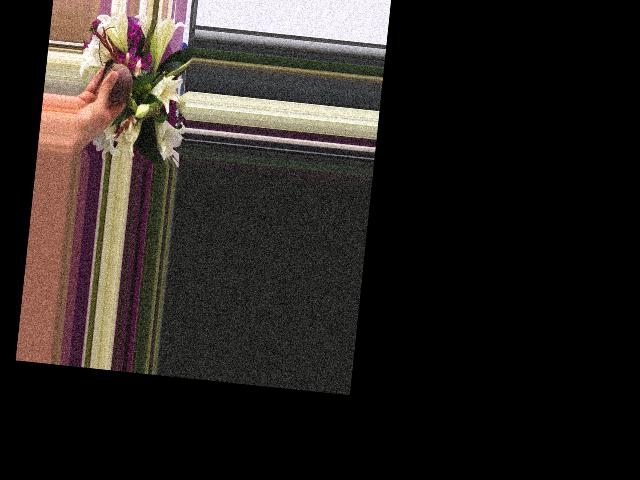beet: (99, 58, 141, 114)
